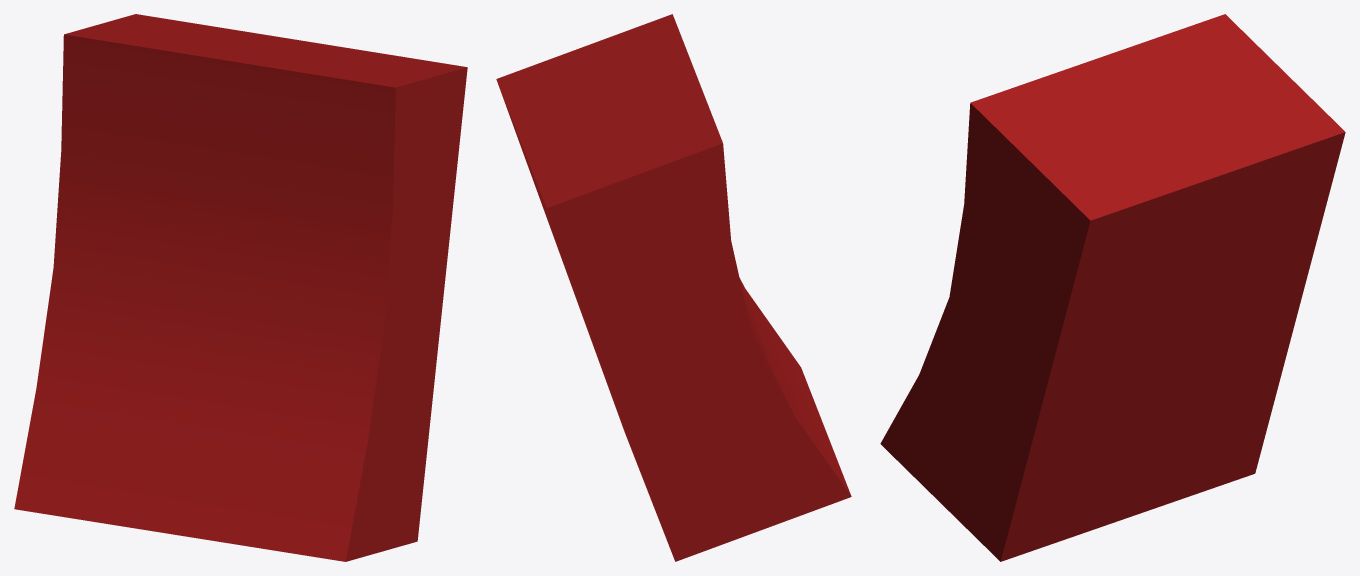
Rendered from knopka2.001_material.010_0_lev1.glb.
3 renders of one model, left to right at view 1: azimuth 30°, elevation 25°; view 2: azimuth 150°, elevation 25°; view 3: azimuth 270°, elevation 25°, orthographic. The views are drawn at different scales.
Visible parts, largest first — view 1: knopka2.001_material.010_0_lev1; view 2: knopka2.001_material.010_0_lev1; view 3: knopka2.001_material.010_0_lev1.
Part boxes in pixels (x1=…): knopka2.001_material.010_0_lev1: x1=14, y1=14, x2=467, y2=561; knopka2.001_material.010_0_lev1: x1=496, y1=14, x2=851, y2=561; knopka2.001_material.010_0_lev1: x1=880, y1=14, x2=1345, y2=561.
Bounding box in the file's own units: 3.13 × 3.31 × 3.16.
